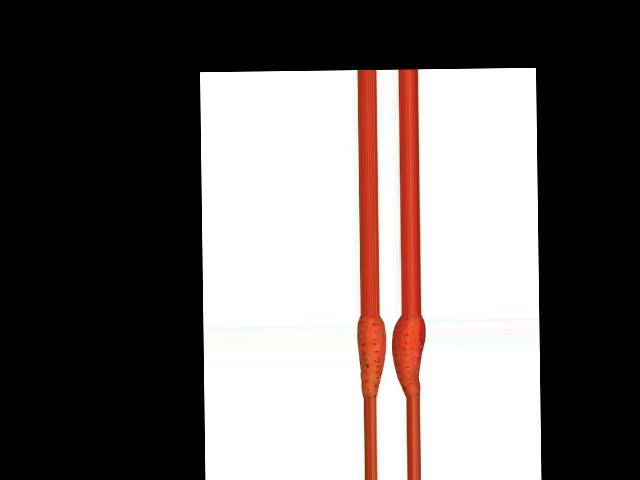sweet_potato: (357, 314, 387, 396)
